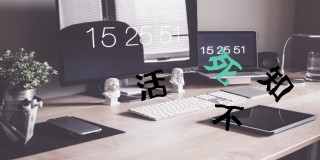不: (213, 102, 244, 131)
死: (203, 48, 243, 86)
活: (136, 68, 167, 101)
知: (257, 66, 294, 102)
